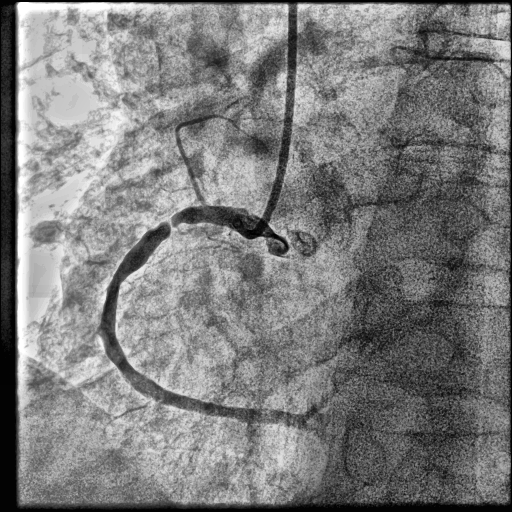pborca: (306, 373, 338, 419)
rca: (100, 205, 303, 429)
